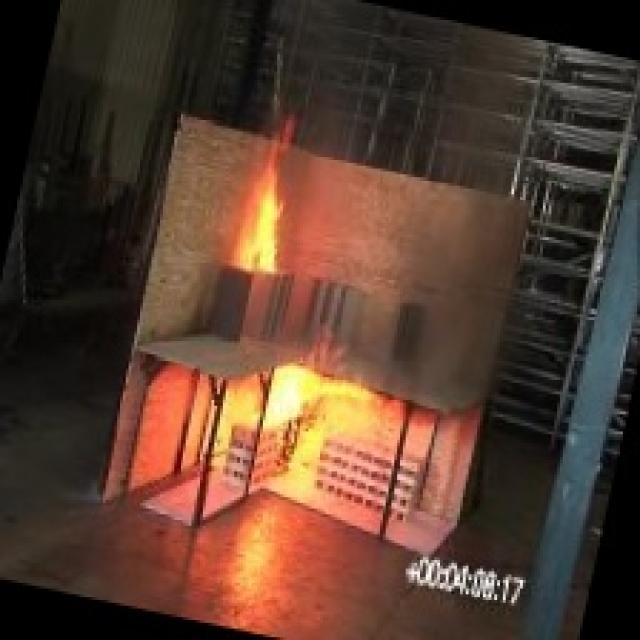fire: (210, 320, 393, 506), (194, 100, 349, 306)
